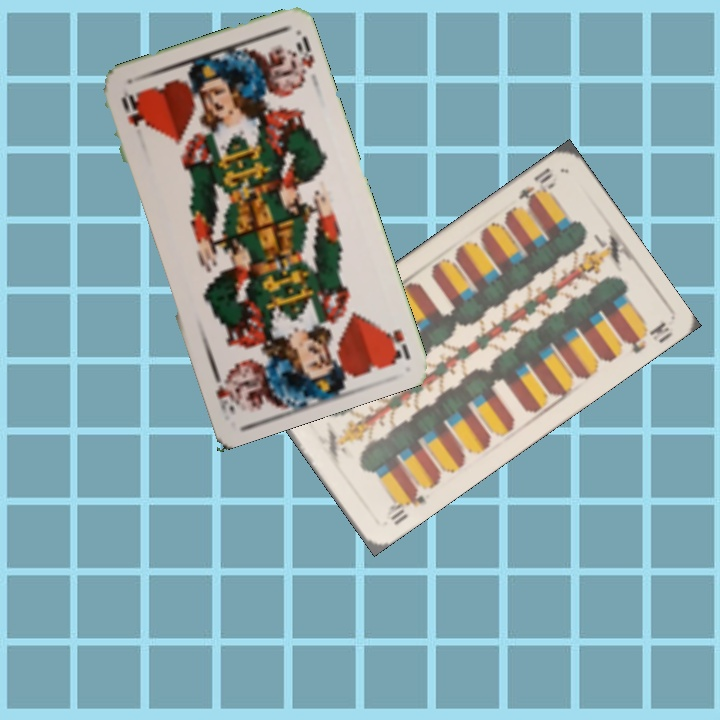E10: (514, 163, 559, 209), (381, 484, 428, 528)
HO: (380, 325, 413, 365), (117, 88, 143, 130)
